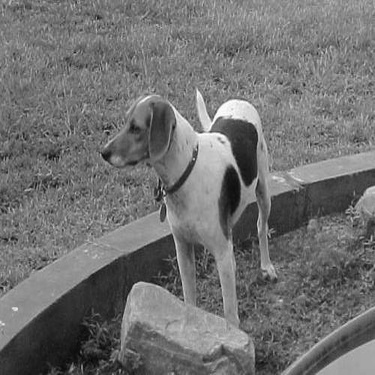dog: (83, 69, 287, 335)
